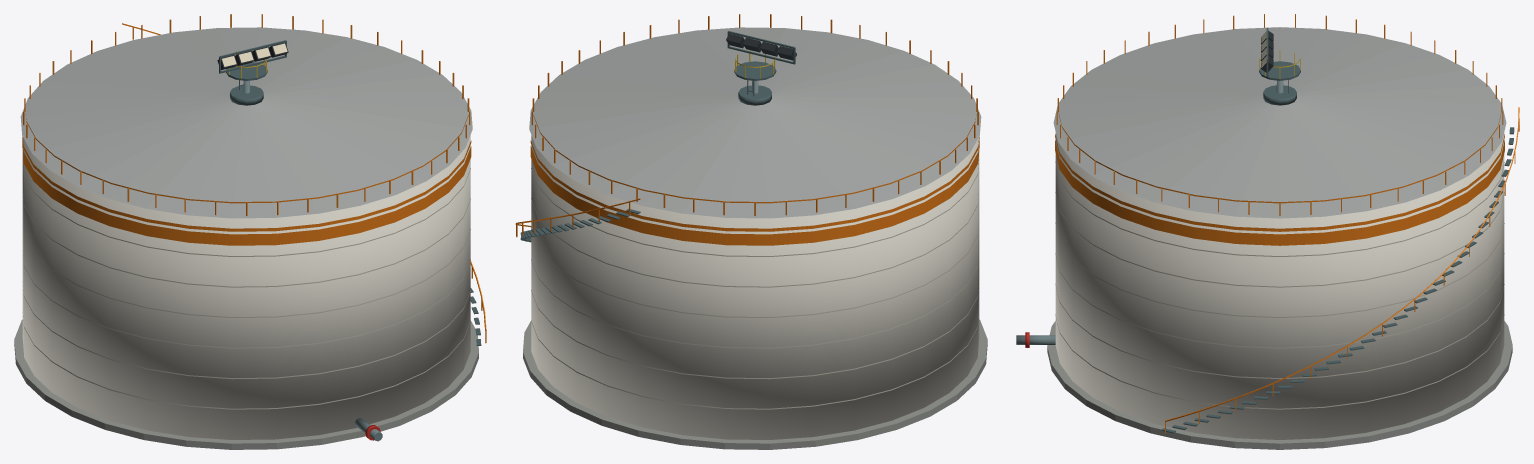
Rendered from depot.glb.
3 views of the same model, side by side, from view 1: azimuth 30°, elevation 25°; view 2: azimuth 150°, elevation 25°; view 3: azimuth 270°, elevation 25° (orthographic).
Visible parts, largest first — view 1: depot_tank_huge, depot_mast, depot_mast_lens; view 2: depot_tank_huge, depot_mast; view 3: depot_tank_huge, depot_mast.
Boxes of the visible parts, bbox=[...] form: depot_tank_huge: bbox=[14, 14, 486, 449]; depot_mast: bbox=[217, 40, 288, 93]; depot_mast_lens: bbox=[221, 43, 287, 66]; depot_tank_huge: bbox=[515, 14, 987, 449]; depot_mast: bbox=[726, 31, 796, 96]; depot_tank_huge: bbox=[1016, 14, 1519, 449]; depot_mast: bbox=[1259, 27, 1300, 93].
Size of the model in its own units: 33.69 by 24.22 by 35.89.
